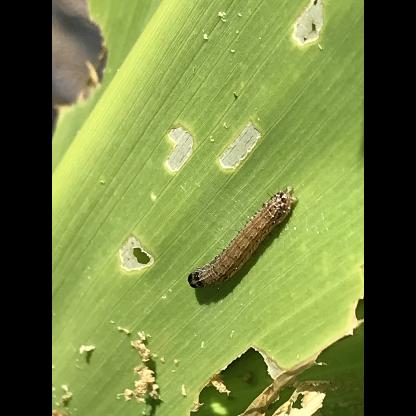Fall Armyworm Larvae: (186, 184, 300, 290)
